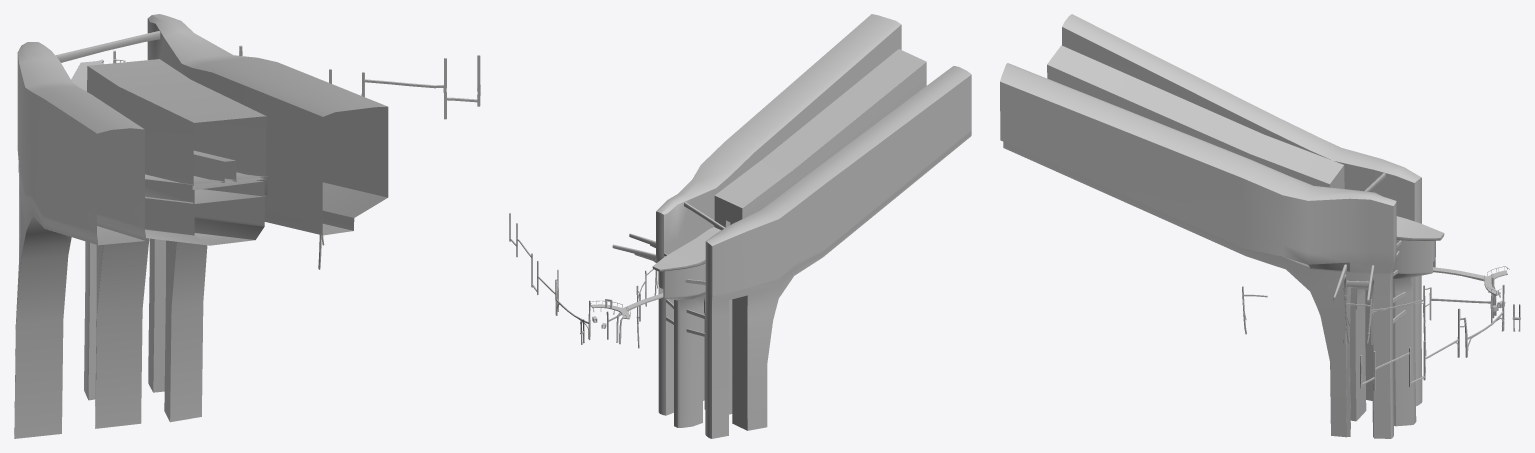
3 renders of one model, left to right at view 1: azimuth 30°, elevation 25°; view 2: azimuth 150°, elevation 25°; view 3: azimuth 270°, elevation 25°, orthographic. The views are drawn at different scales.
Visible parts, largest first — view 1: Cube.006; view 2: Cube.006; view 3: Cube.006.
Part boxes in pixels (x1=…): Cube.006: x1=14, y1=14, x2=480, y2=438; Cube.006: x1=509, y1=14, x2=971, y2=438; Cube.006: x1=1000, y1=14, x2=1520, y2=438.
Size of the model in its own units: 15413 by 12550 by 17730.
